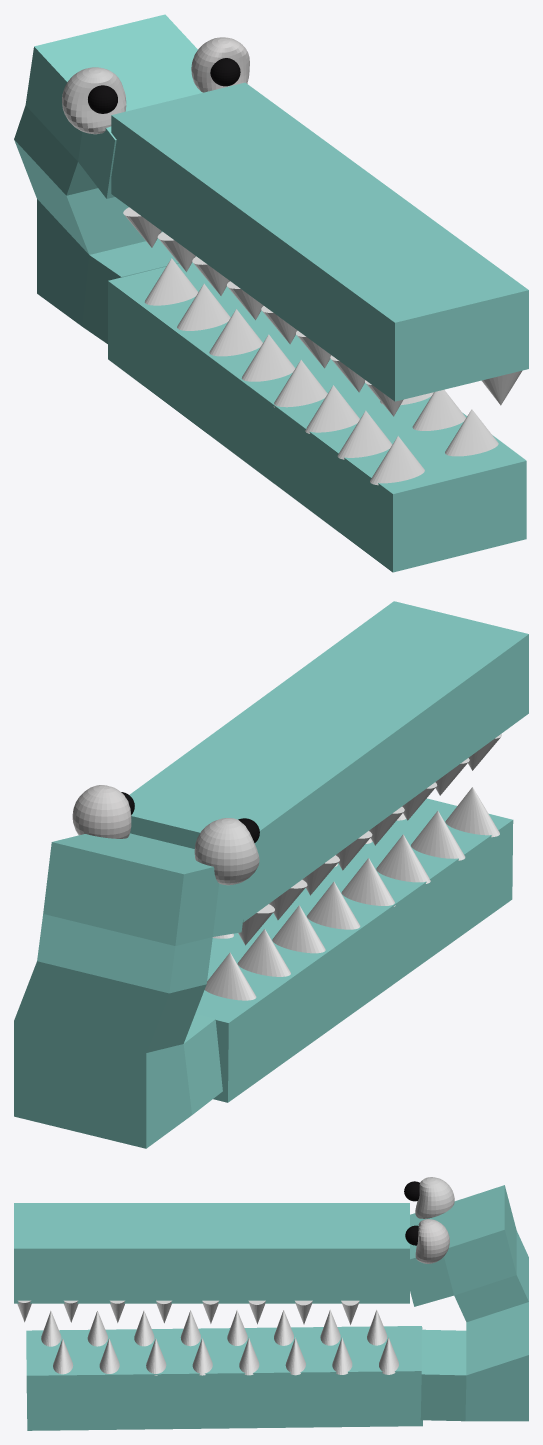
File: trexHead.fbx
3 renders of one model, top to bottom at view 1: azimuth 30°, elevation 25°; view 2: azimuth 150°, elevation 25°; view 3: azimuth 270°, elevation 25°, orthographic. The views are drawn at different scales.
Visible parts, largest first — view 1: mouthupper, TrexLowerMouth, ConnectingMouth, Teeth.001, Teeth.003, Teeth, LeftEyeBall.001, RightEye, LeftEyeBall, left_pupil, right_pupil, Teeth.002; view 2: mouthupper, ConnectingMouth, TrexLowerMouth, Teeth.001, Teeth.003, LeftEyeBall, RightEye; view 3: mouthupper, TrexLowerMouth, ConnectingMouth, Teeth, Teeth.001, Teeth.002, RightEye, LeftEyeBall, LeftEyeBall.001.
Boxes of the visible parts, x1,y1,x2,y2 form: mouthupper: (111,82,528,401); TrexLowerMouth: (108,262,526,572); ConnectingMouth: (14,14,202,343); Teeth.001: (144,258,424,485); Teeth.003: (123,207,403,416); Teeth: (380,390,498,456); LeftEyeBall.001: (64,74,126,134); RightEye: (191,37,249,92); LeftEyeBall: (62,67,119,115); left_pupil: (88,85,117,113); right_pupil: (210,58,240,86); Teeth.002: (482,370,522,405); mouthupper: (129,601,528,922); ConnectingMouth: (14,833,247,1148); TrexLowerMouth: (195,798,513,1102); Teeth.001: (204,787,499,1000); Teeth.003: (238,734,501,945); LeftEyeBall: (194,818,259,885); RightEye: (72,785,131,838); mouthupper: (14,1203,409,1303); TrexLowerMouth: (26,1326,422,1430); ConnectingMouth: (410,1185,528,1421); Teeth: (53,1337,398,1375); Teeth.001: (41,1309,387,1346); Teeth.002: (17,1300,359,1324); RightEye: (415,1219,449,1263); LeftEyeBall: (416,1177,454,1216); LeftEyeBall.001: (415,1180,436,1218).
Size of the model in its own units: 97.38 by 151 by 344.
